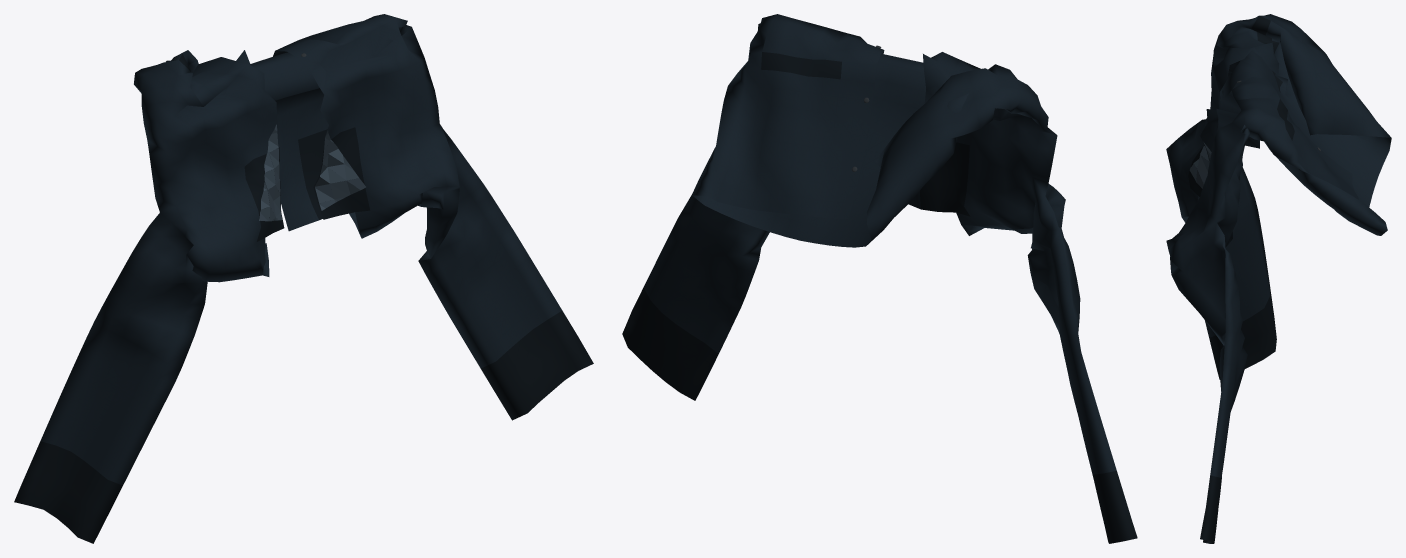
The model's file is her_jacket.glb.
3 views of the same model, side by side, from view 1: azimuth 30°, elevation 25°; view 2: azimuth 150°, elevation 25°; view 3: azimuth 270°, elevation 25° (orthographic). The views are drawn at different scales.
Visible parts, largest first — view 1: Jacket, Lapel_R, Lapel_L; view 2: Jacket; view 3: Jacket, Lapel_L.
Boxes of the visible parts, x1,y1,x2,y2 form: Jacket: [14, 14, 593, 543]; Lapel_R: [315, 130, 365, 210]; Lapel_L: [259, 124, 282, 221]; Jacket: [622, 14, 1137, 543]; Jacket: [1166, 14, 1391, 543]; Lapel_L: [1189, 146, 1209, 188].
Size of the model in its own units: 0.901 by 0.7063 by 0.3495.
4 materials, 2 textured.
